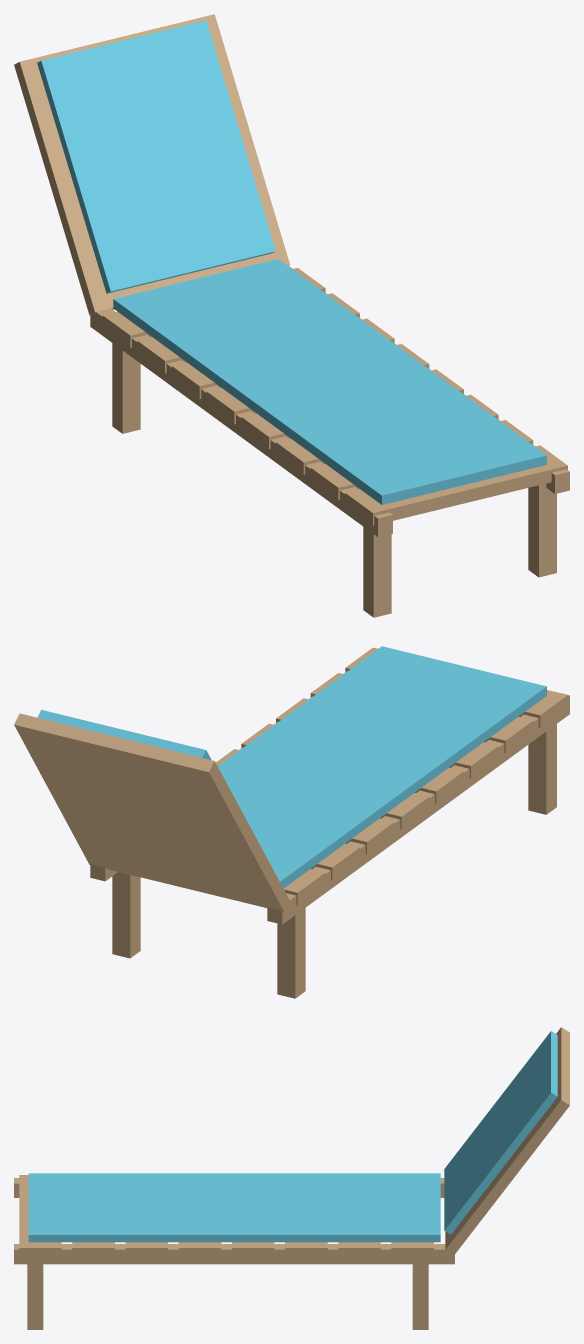
File: espreguicadeira.glb
The picture shows the model from 3 angles, top to bottom: view 1: azimuth 30°, elevation 25°; view 2: azimuth 150°, elevation 25°; view 3: azimuth 270°, elevation 25°; orthographic projection. The views are drawn at different scales.
Parts seen in each view (by area): view 1: espreguicadeira; view 2: espreguicadeira; view 3: espreguicadeira.
Boxes of the visible parts, x1,y1,x2,y2 form: espreguicadeira: (14, 14, 569, 617); espreguicadeira: (14, 646, 569, 998); espreguicadeira: (14, 1027, 569, 1329).
Bounding box in the file's own units: 0.65 × 0.9716 × 2.09.
